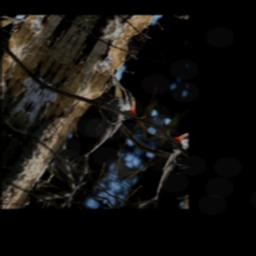Woodpecker: (46, 72, 149, 193)
